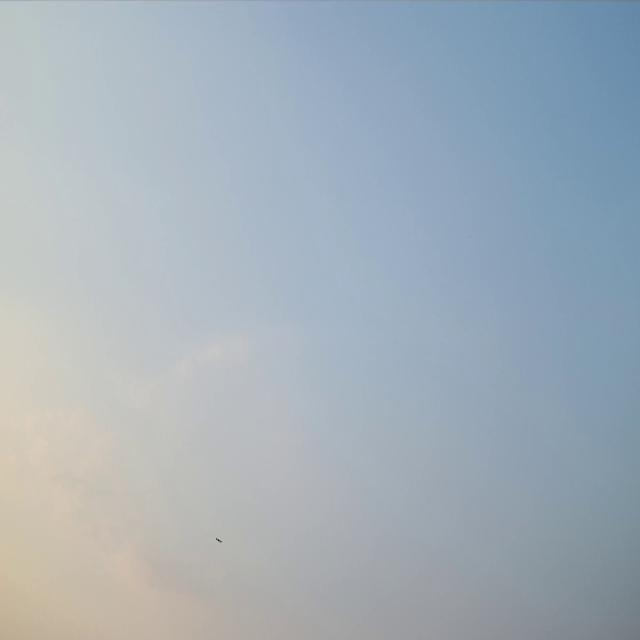UAV: (216, 538, 221, 542)
